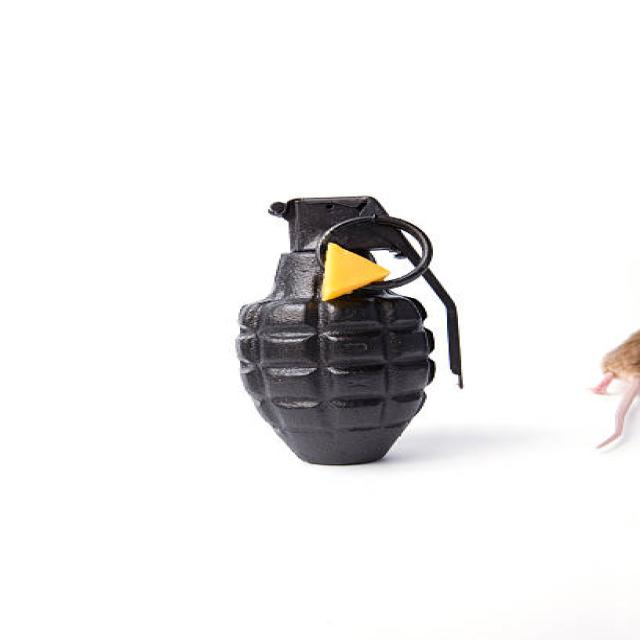grenade: (229, 194, 479, 468)
